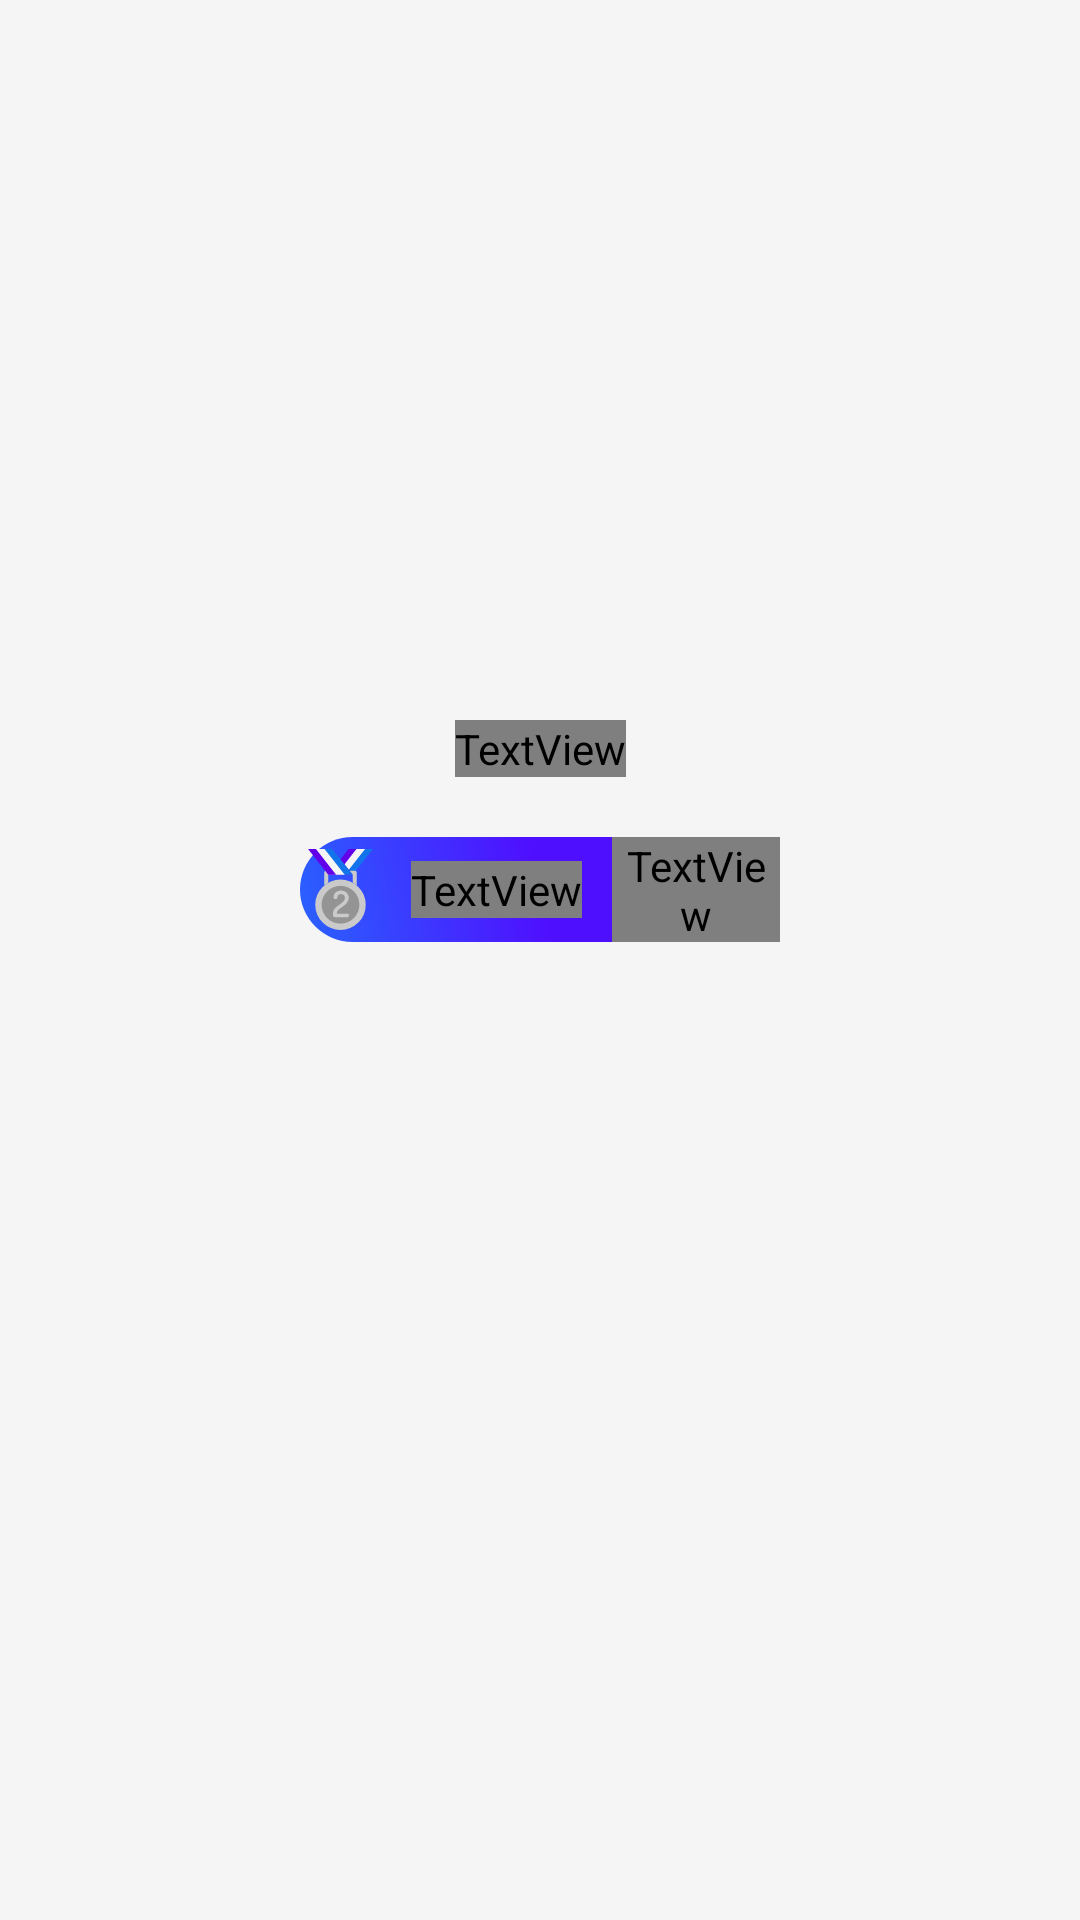

Named icons in this screenshot (1080w x 1920h) and their centers, (x,y):
silver medal: (340,889)
